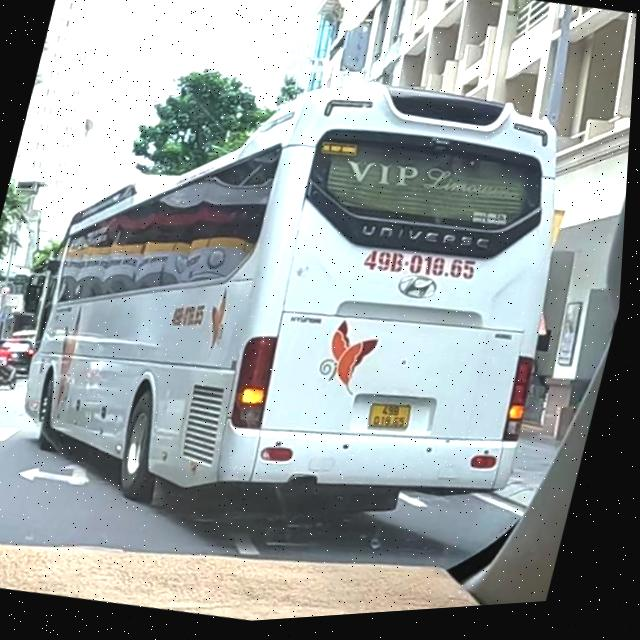car: (0, 17, 608, 602)
plate: (356, 393, 424, 445)
